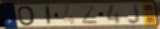4: (106, 3, 123, 25), (62, 5, 77, 26)
I: (45, 5, 52, 26)
J: (126, 2, 142, 25)
O: (16, 5, 37, 27)
Z: (79, 4, 100, 25)
